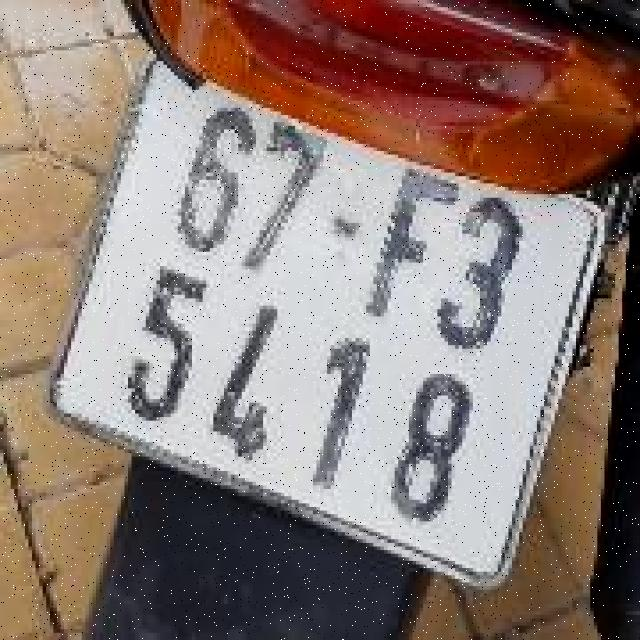1: (292, 310, 396, 512)
3: (415, 179, 547, 375)
4: (191, 280, 307, 476)
5: (106, 258, 226, 442)
6: (157, 86, 267, 264)
7: (226, 105, 342, 289)
8: (371, 359, 493, 544)
F: (348, 155, 471, 340)
